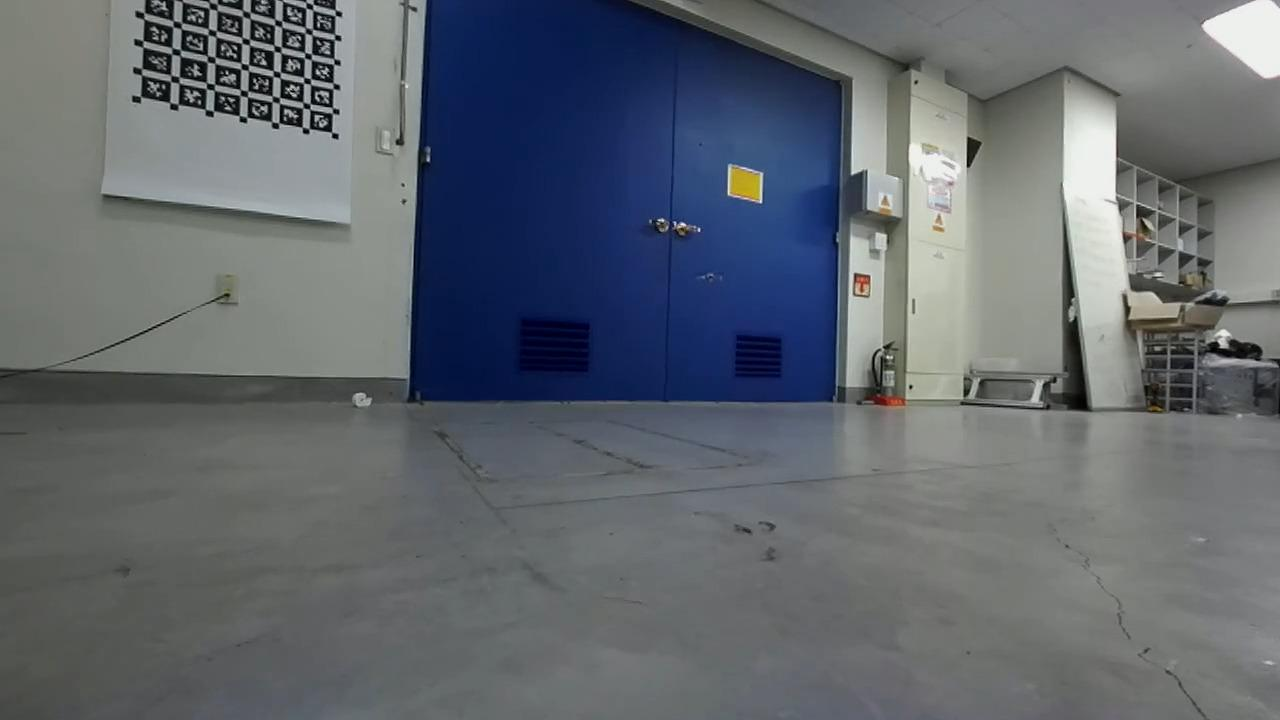crazyflie: (693, 267, 727, 287)
